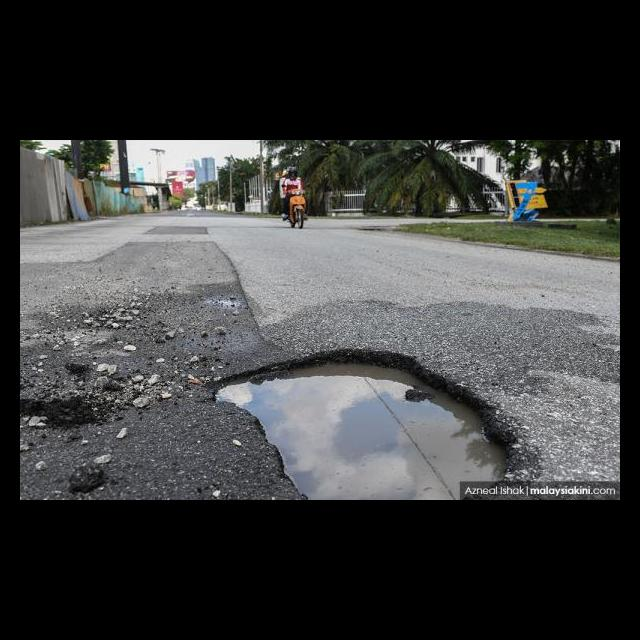lubang_kecil: (189, 331, 522, 500)
